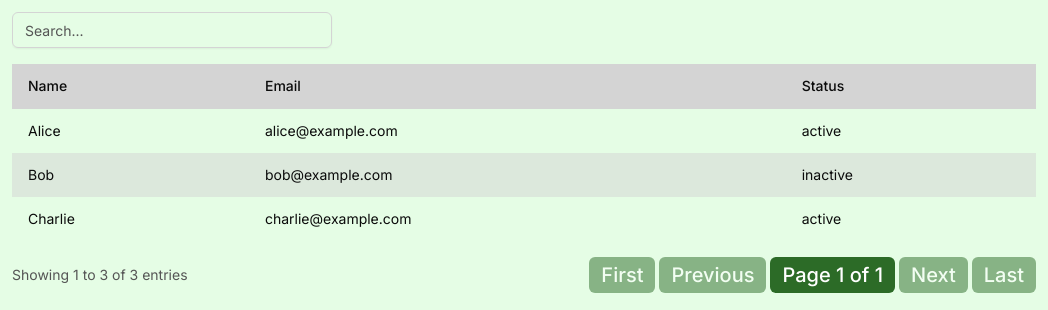
Test case: DataTable › filtering › should clear filter when search is emptied
Type "Alice" into the field with placeholder "Search..." at (172,30), box [12, 12, 332, 48]
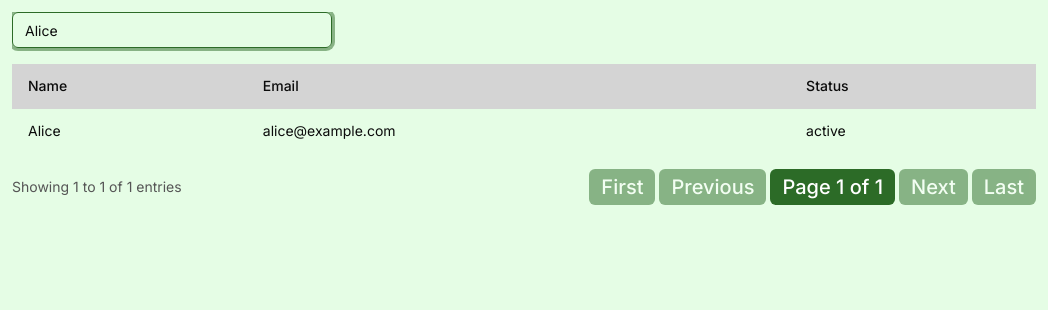
Clear the field with placeholder "Search..." at (172,30), box [12, 12, 332, 48]
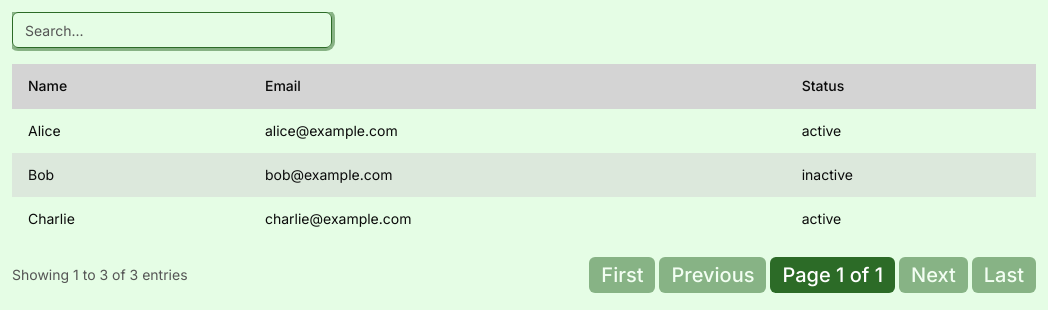
Expected: the text "Alice" is shown, [12, 108, 249, 153]
Expected: the text "Bob" is shown, [12, 153, 249, 197]
